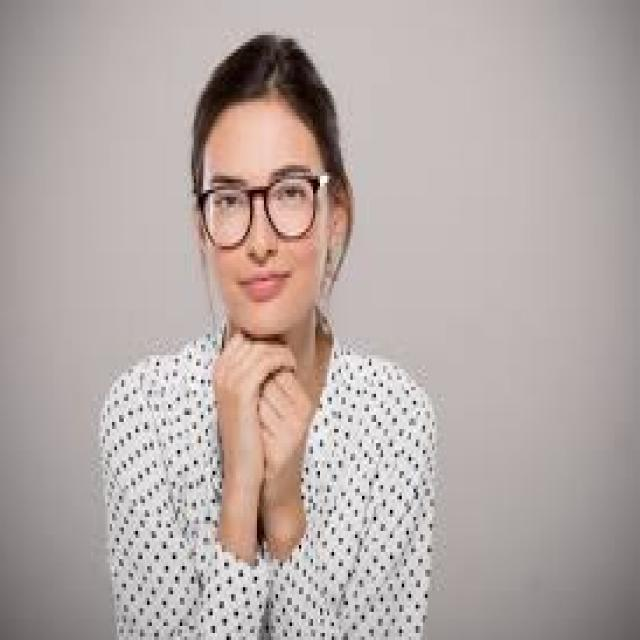Glasses: (194, 163, 334, 263)
